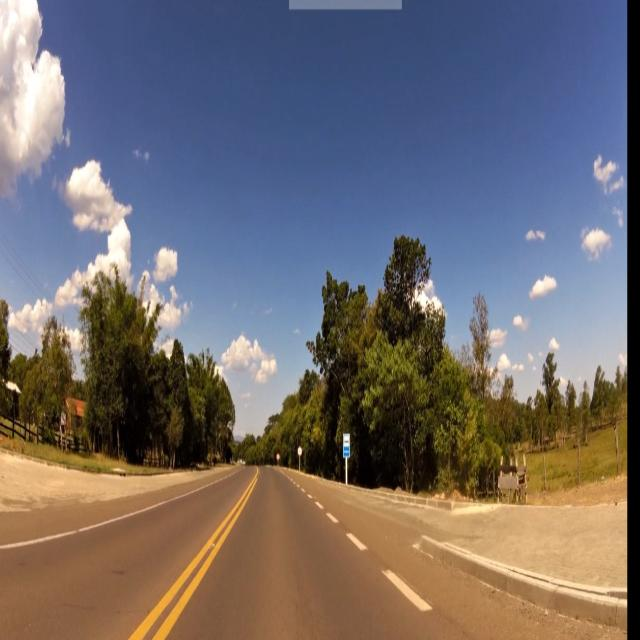S-14: (343, 434, 351, 458)
